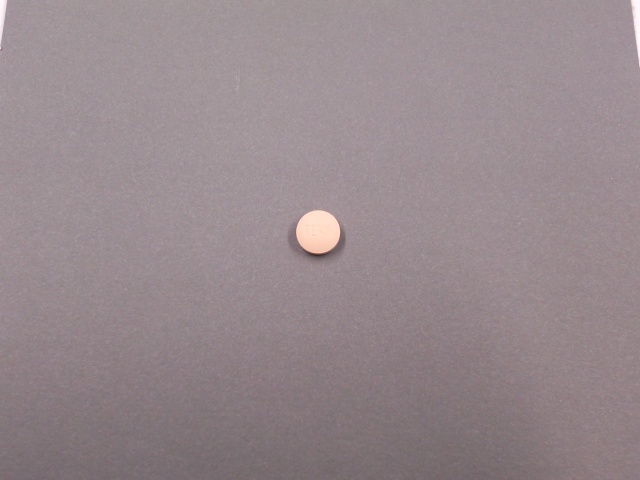A: (324, 224, 333, 236)
E: (311, 222, 319, 239)
T: (303, 223, 310, 238)
V: (319, 220, 326, 236)
